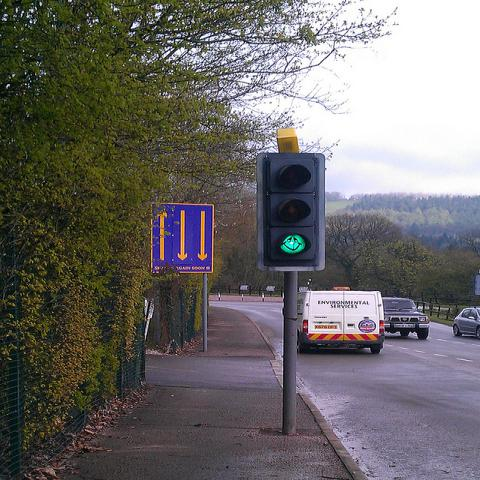car: (382, 298, 432, 340), (452, 307, 479, 338)
truck: (296, 291, 385, 354)
